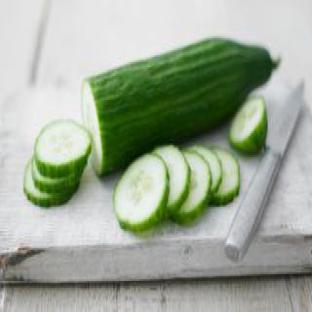Cucumber: (82, 38, 277, 174), (114, 154, 168, 230), (35, 121, 91, 177), (172, 150, 211, 224), (155, 145, 190, 215), (24, 161, 77, 206), (230, 97, 267, 153), (32, 159, 82, 193), (212, 149, 239, 205), (192, 145, 222, 193)
